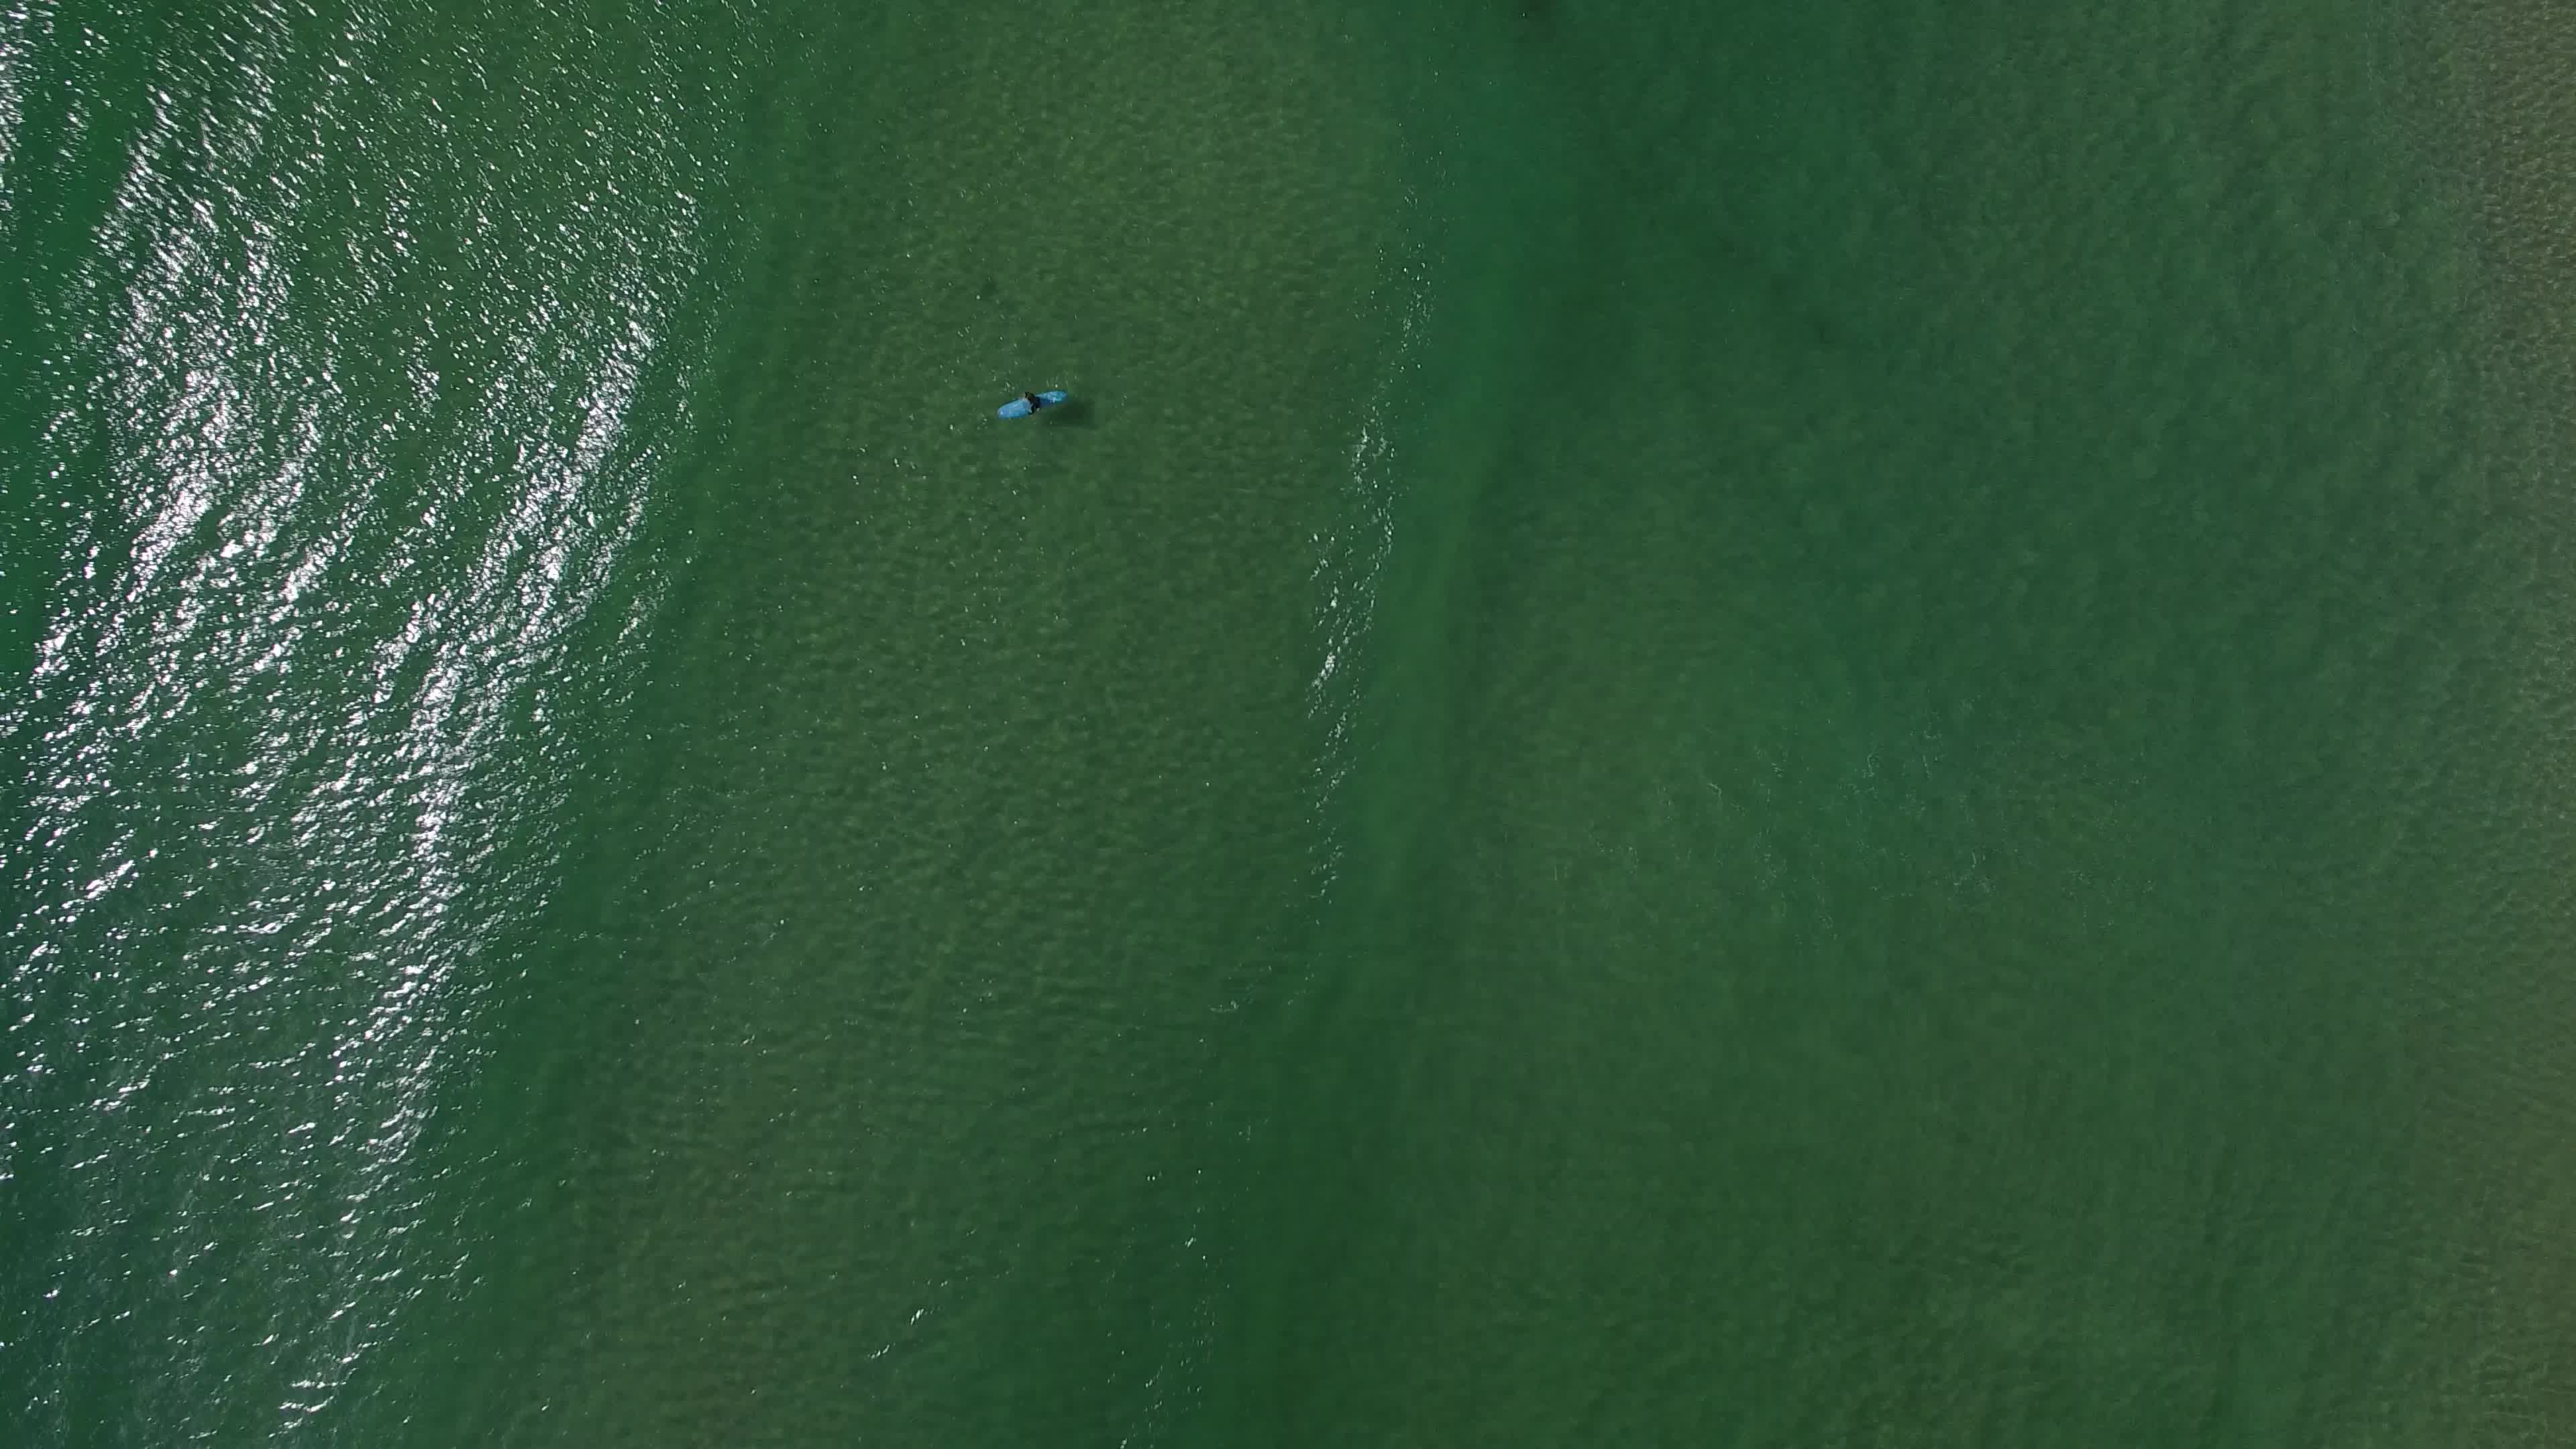surfer: (982, 375, 1081, 430)
